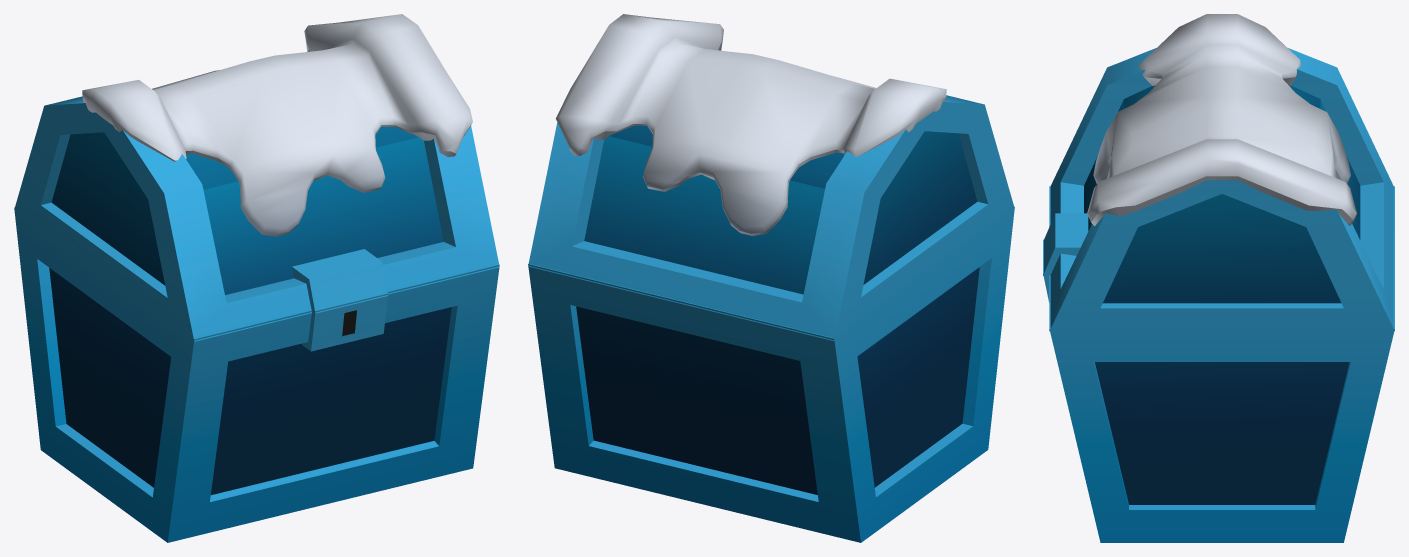
Rendered from Chest_02.fbx.
3 views of the same model, side by side, from view 1: azimuth 30°, elevation 25°; view 2: azimuth 150°, elevation 25°; view 3: azimuth 270°, elevation 25° (orthographic). The views are drawn at different scales.
Parts seen in each view (by area): view 1: Chest 02 Cover, Chest 02; view 2: Chest 02 Cover, Chest 02; view 3: Chest 02 Cover, Chest 02.
Boxes of the visible parts, <box> form: Chest 02 Cover: <box>14,14,499,341</box>; Chest 02: <box>14,207,499,542</box>; Chest 02 Cover: <box>528,14,1014,340</box>; Chest 02: <box>528,206,1014,542</box>; Chest 02 Cover: <box>1043,14,1394,331</box>; Chest 02: <box>1043,186,1394,542</box>.
Bounding box in the file's own units: 80.8 × 98.47 × 81.41.
